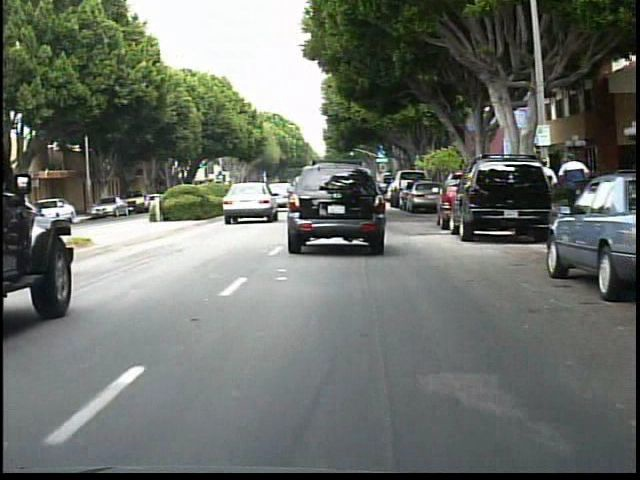person: (556, 146, 593, 223), (531, 156, 558, 222)
